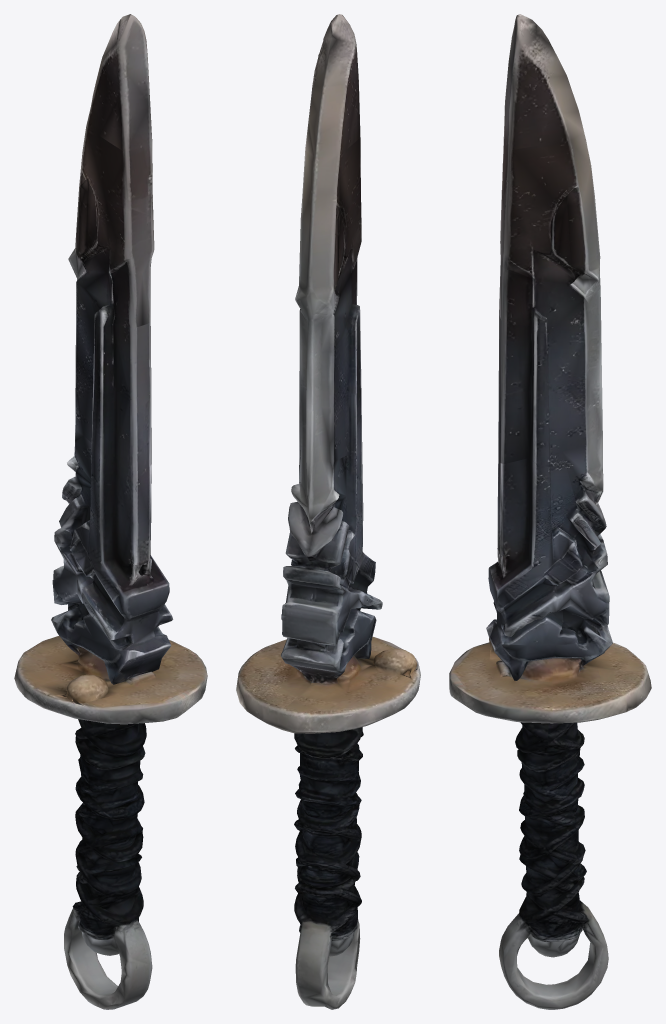
Rendered from kunai.glb.
3 renders of one model, left to right at view 1: azimuth 30°, elevation 25°; view 2: azimuth 150°, elevation 25°; view 3: azimuth 270°, elevation 25°, orthographic. The views are drawn at different scales.
Parts seen in each view (by area): view 1: kunai; view 2: kunai; view 3: kunai.
Boxes of the visible parts, x1,y1,x2,y2 form: kunai: (14,14,207,1009); kunai: (236,14,420,1009); kunai: (449,14,651,1009).
Size of the model in its own units: 0.0424 by 0.25 by 0.0462.
Materials: 1 (1 with a texture image).
